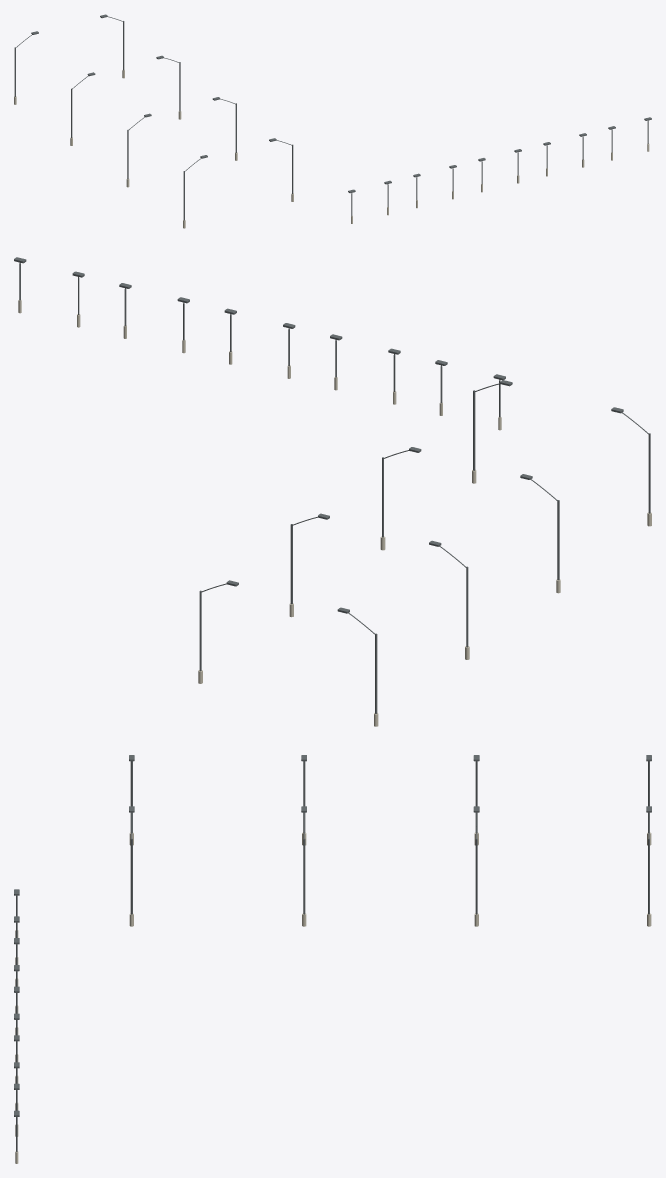
3 renders of one model, top to bottom at view 1: azimuth 30°, elevation 25°; view 2: azimuth 150°, elevation 25°; view 3: azimuth 270°, elevation 25°, orthographic. The views are drawn at different scales.
Parts seen in each view (by area): view 1: buildings_s_-11_3_Dark_Metal, buildings_s_-11_3_Warm_Limestone; view 2: buildings_s_-11_3_Dark_Metal, buildings_s_-11_3_Warm_Limestone; view 3: buildings_s_-11_3_Dark_Metal, buildings_s_-11_3_Warm_Limestone.
Boxes of the visible parts, box(x1,y1,x2,y2) form: buildings_s_-11_3_Dark_Metal: box(14, 14, 651, 220); buildings_s_-11_3_Warm_Limestone: box(14, 70, 649, 228); buildings_s_-11_3_Dark_Metal: box(14, 257, 650, 713); buildings_s_-11_3_Warm_Limestone: box(18, 300, 651, 726); buildings_s_-11_3_Dark_Metal: box(14, 755, 651, 1151); buildings_s_-11_3_Warm_Limestone: box(15, 832, 651, 1163).
Bounding box in the file's own units: 119 × 17.75 × 99.9.
